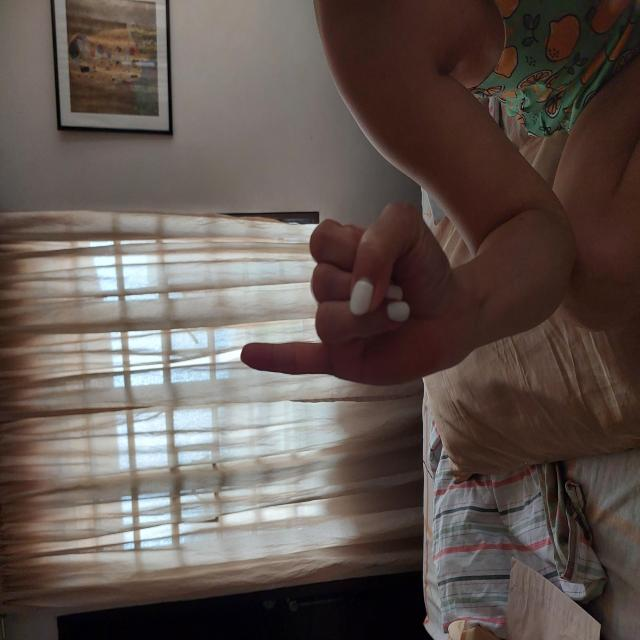I: (250, 237, 443, 459)
